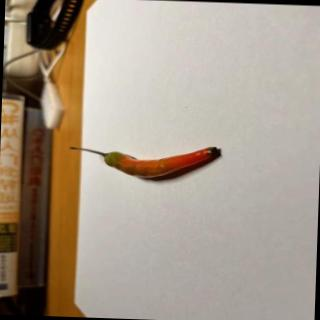Cabai Merah: (69, 141, 219, 182)
